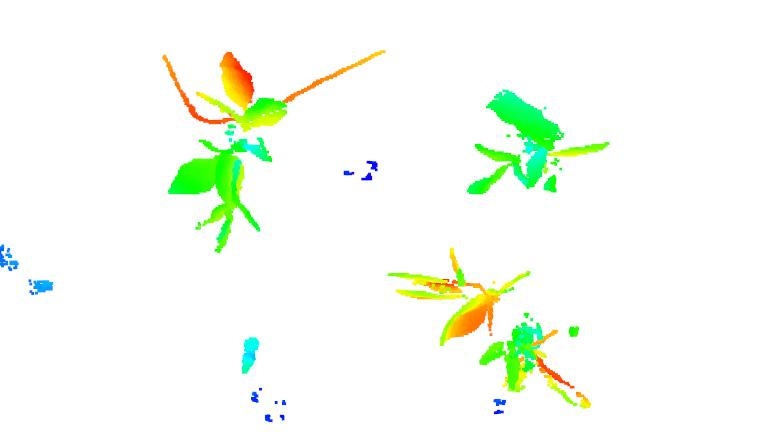mungbean: (379, 253, 594, 407), (162, 53, 286, 228), (465, 132, 611, 193)
